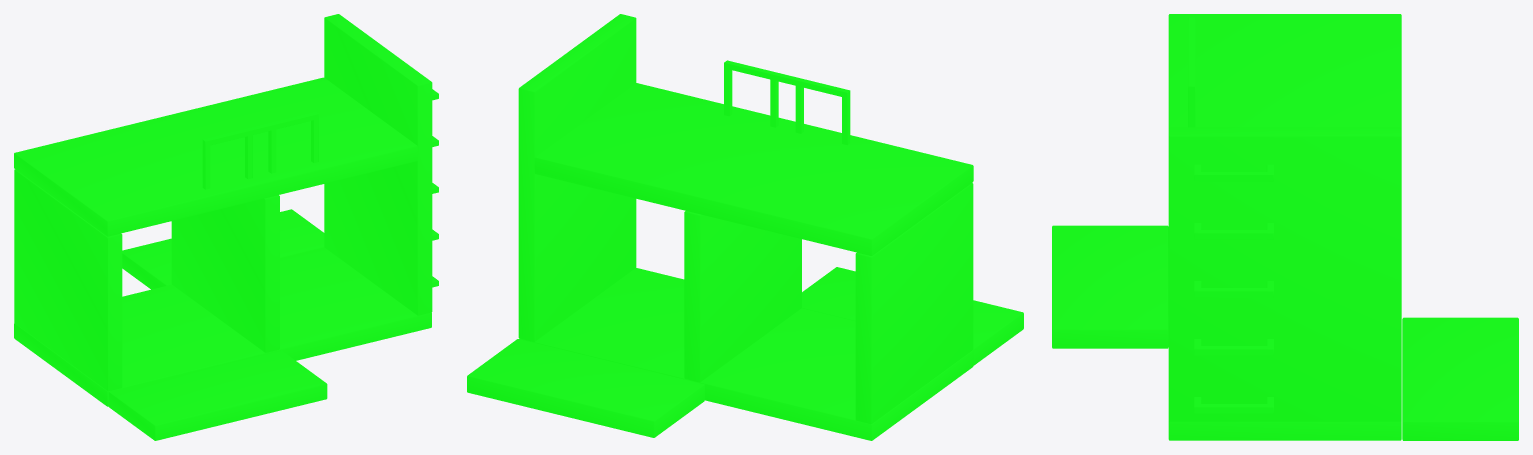
The model's file is Bed.fbx.
The picture shows the model from 3 angles, left to right: view 1: azimuth 30°, elevation 25°; view 2: azimuth 150°, elevation 25°; view 3: azimuth 270°, elevation 25°; orthographic projection. The views are drawn at different scales.
Visible parts, largest first — view 1: Bed; view 2: Bed; view 3: Bed.
Part boxes in pixels (x1=…): Bed: x1=14, y1=14, x2=438, y2=440; Bed: x1=467, y1=14, x2=1023, y2=440; Bed: x1=1052, y1=14, x2=1518, y2=440.
Size of the model in its own units: 337 by 231 by 321.
